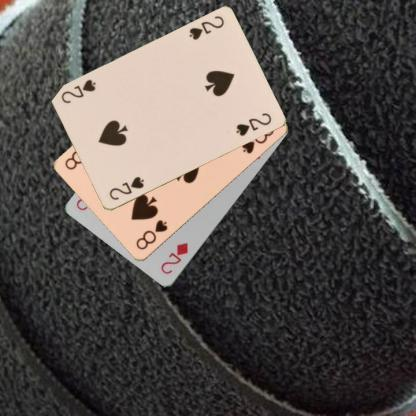2d: (158, 240, 190, 276)
2s: (186, 13, 225, 42), (106, 174, 146, 202)
8s: (134, 218, 170, 252)
